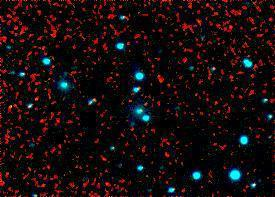star: (128, 89, 158, 119)
